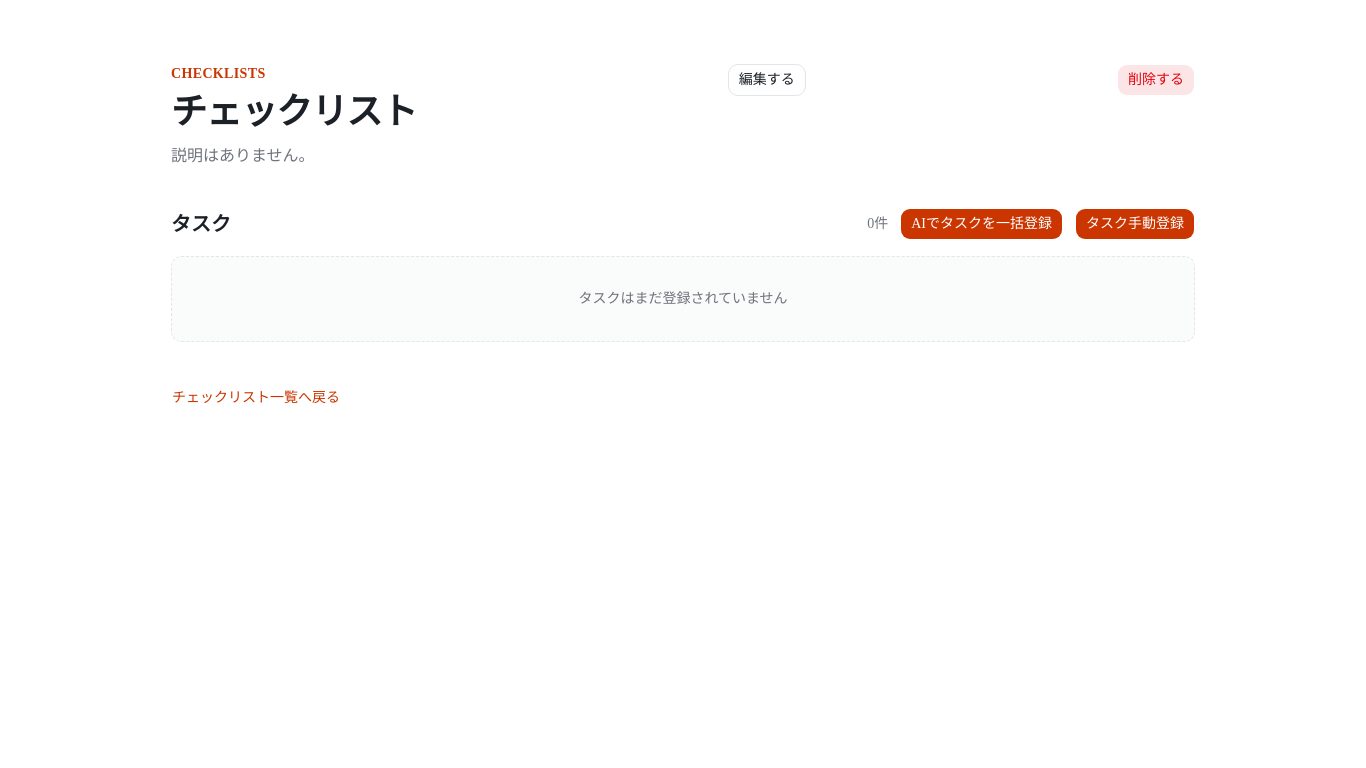
Test case: 手動登録後の再取得エラーはAI登録後の詳細再取得成功で解除する
Step 1. Click the button "タスク手動登録" → (1135, 224), box [1075,208,1195,240]
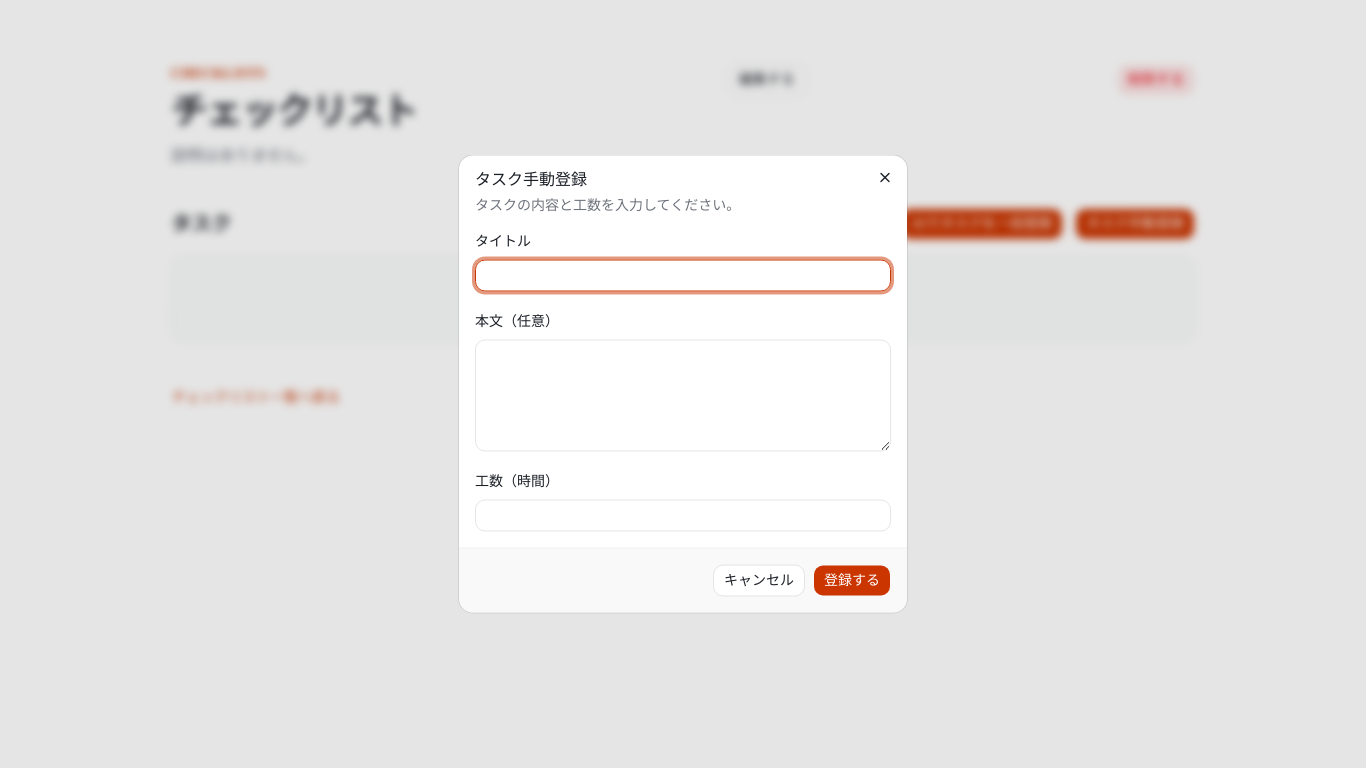
Step 2. Type "手動タスク" into the field labelled "タイトル" → (683, 276), box [475,260,891,292]
Step 3. Type "0.5" into the number field labelled "工数（時間）" → (683, 516), box [475,500,891,532]
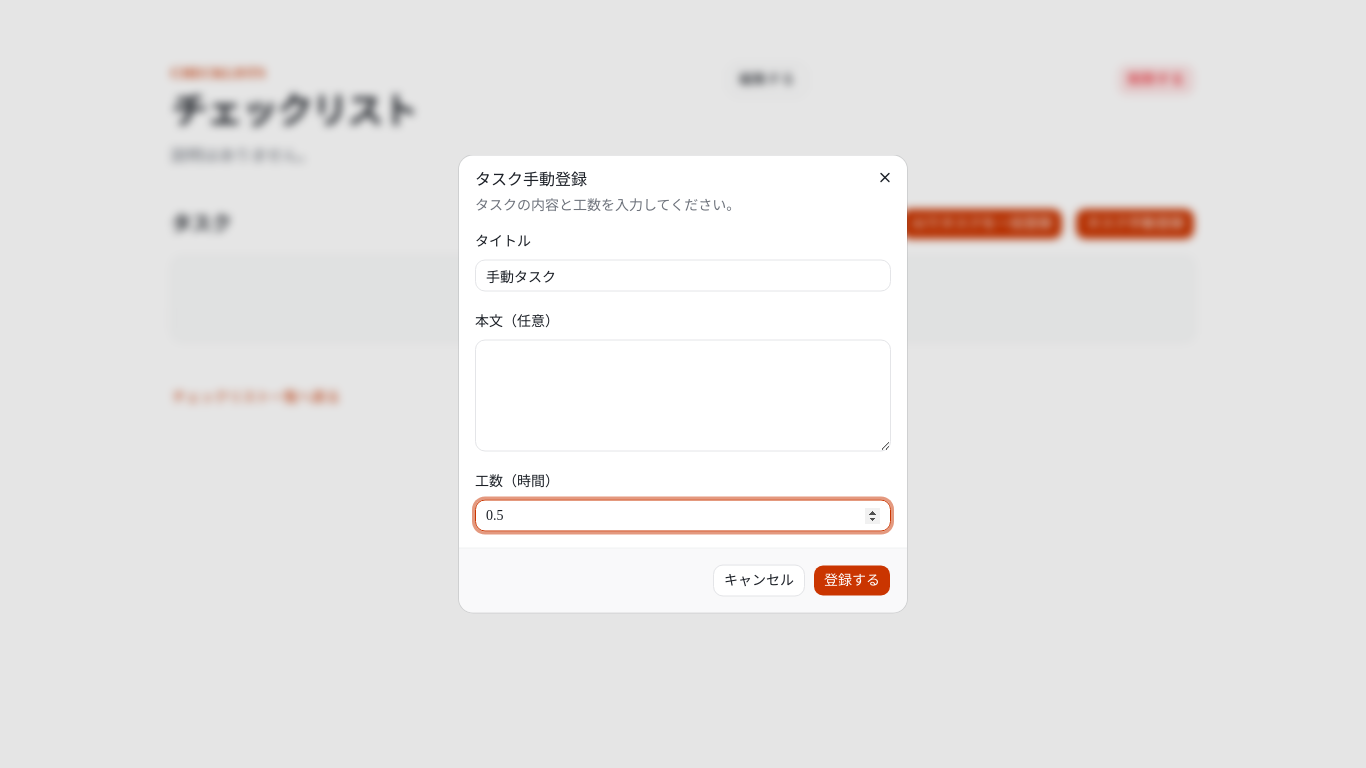
Step 4. Click the button "登録する" → (852, 580), box [813,564,891,596]
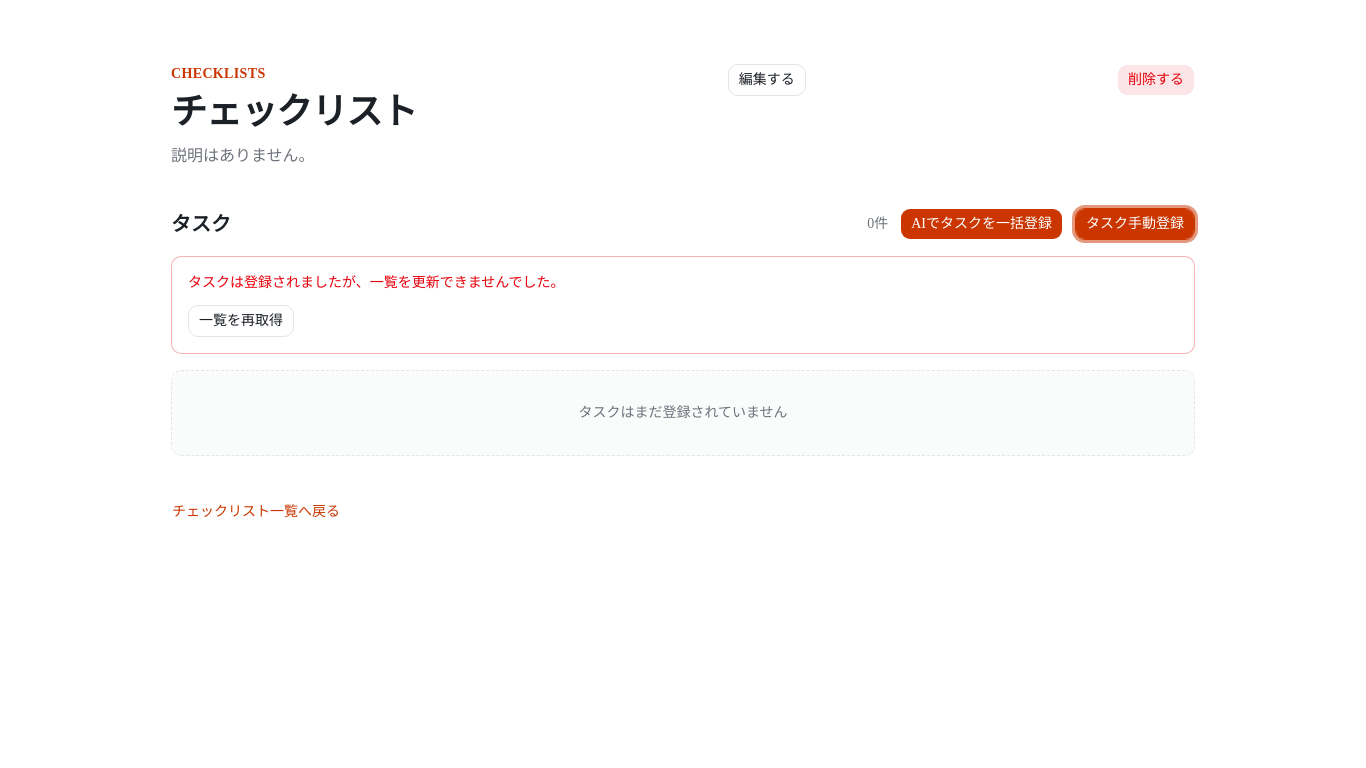
Expected: the message shows "タスクは登録されましたが、一覧を更新できませんでした。", [188,275,565,290]
Step 5. Click the button "AIでタスクを一括登録" → (982, 224), box [900,208,1063,240]
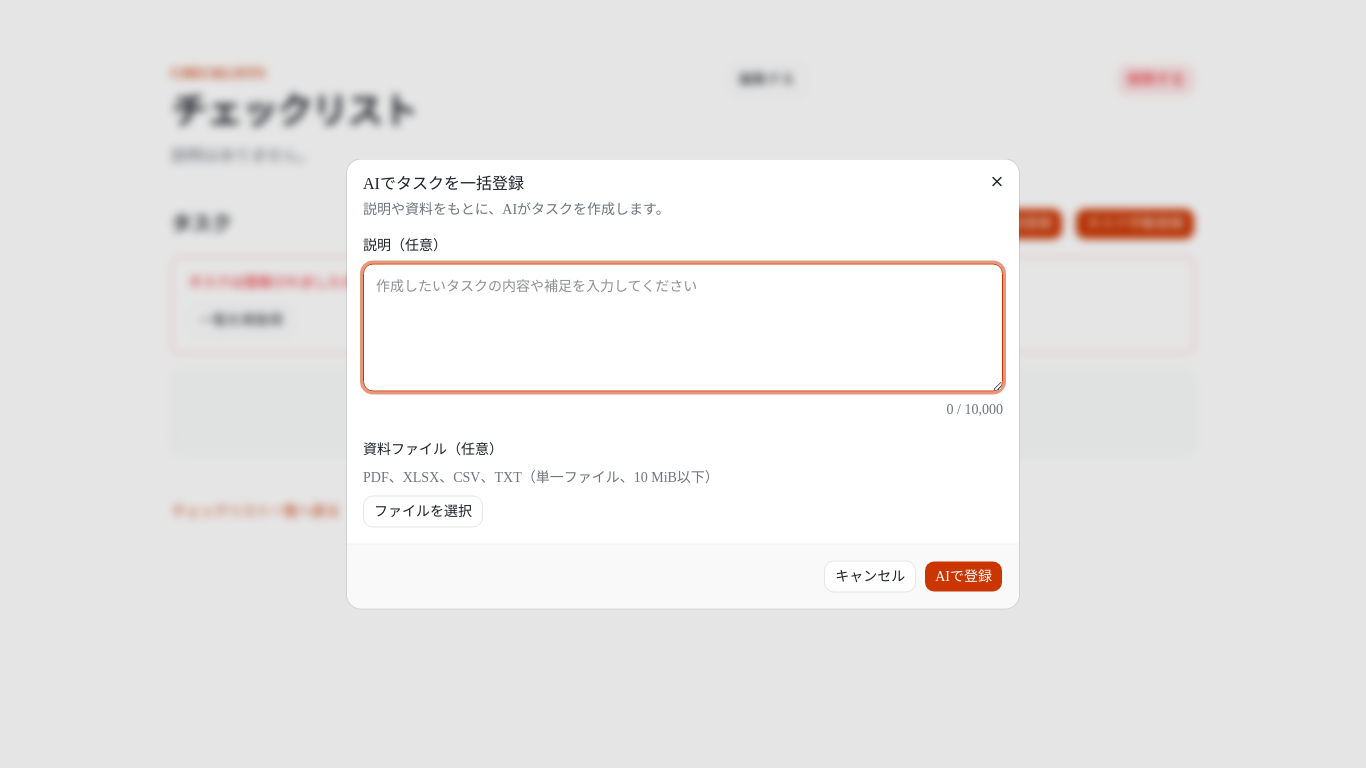
Step 6. Type "AIタスクを作成する" into the text box labelled "説明（任意）" → (683, 328), box [363,264,1003,392]
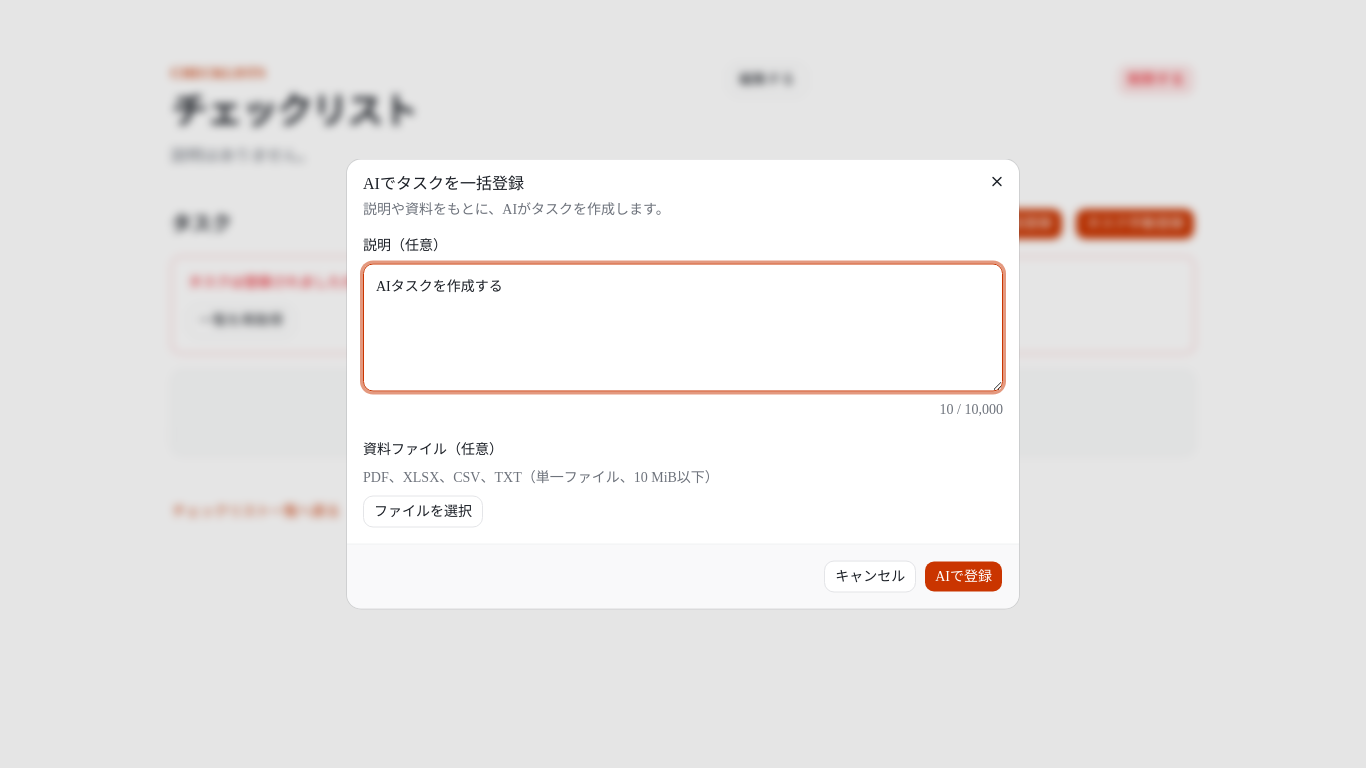
Step 7. Click the button "AIで登録" → (964, 576), box [924,560,1003,592]
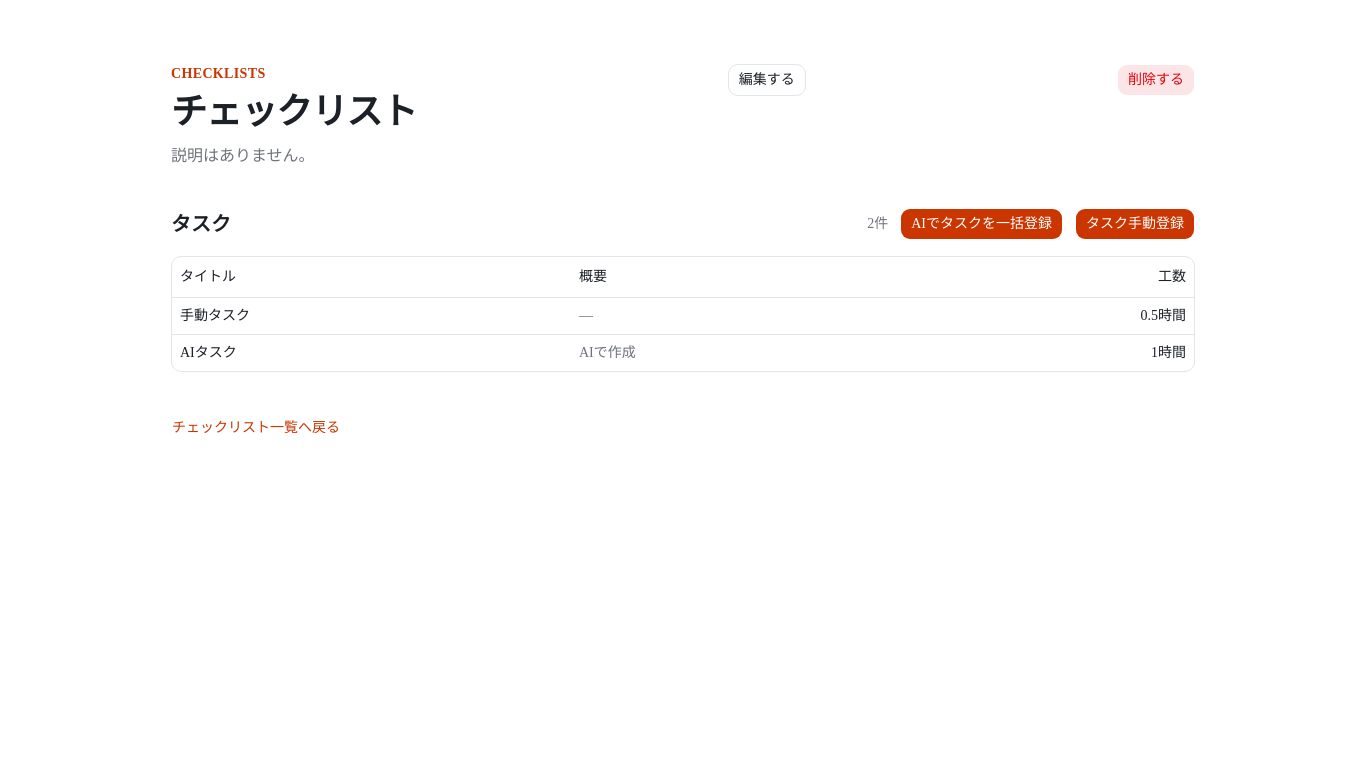
Expected: the link "AIタスク" is shown, [180,344,237,360]
Expected: the text "タスクは登録されましたが、一覧を更新できませんでした。" is gone
